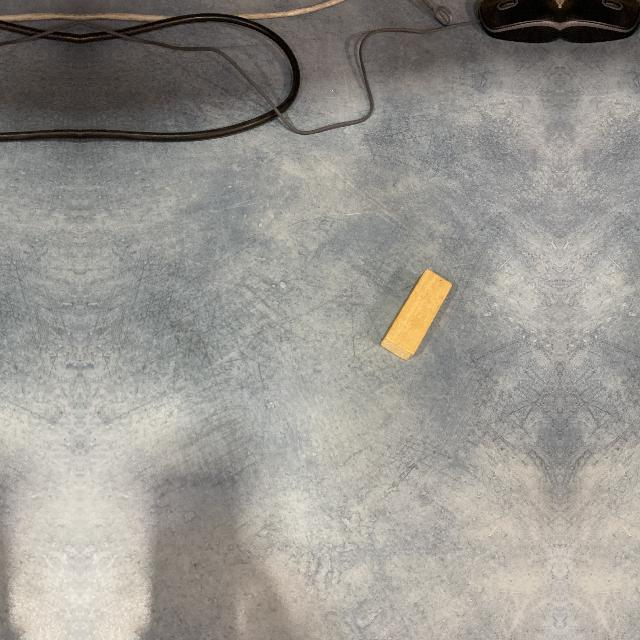jenga: (380, 271, 453, 362)
